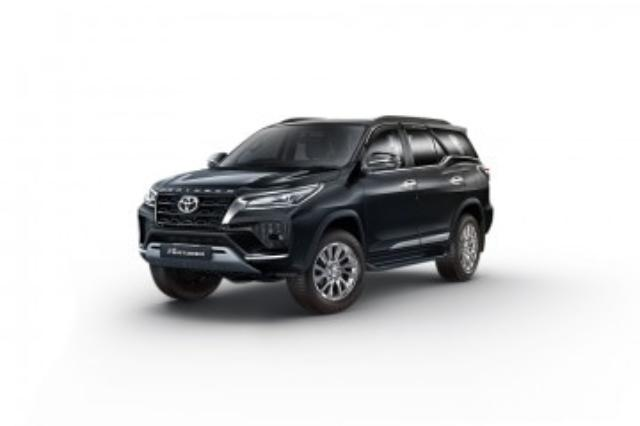toyota: (136, 115, 494, 314)
